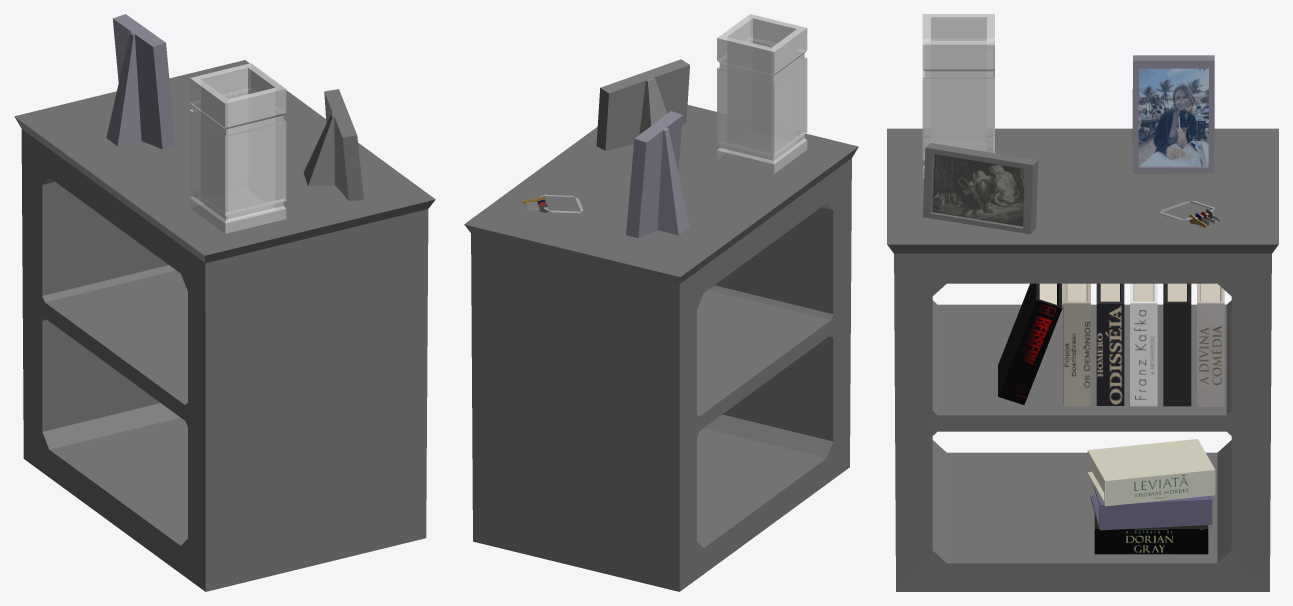
Rendered from Mesita.glb.
3 renders of one model, left to right at view 1: azimuth 30°, elevation 25°; view 2: azimuth 150°, elevation 25°; view 3: azimuth 270°, elevation 25°, orthographic. The views are drawn at different scales.
Visible parts, largest first — view 1: Shelf-convcol, Vase, Portrait-2, Portrait; view 2: Shelf-convcol, Vase, Portrait-2, Portrait, House_Keys; view 3: Shelf-convcol, Books, Book_Stack, Vase, Portrait-2, Portrait, Book, House_Keys.
Boxes of the visible parts, x1=… form: Shelf-convcol: x1=14, y1=60, x2=435, y2=591; Vase: x1=190, y1=63, x2=286, y2=233; Portrait-2: x1=106, y1=14, x2=175, y2=149; Portrait: x1=303, y1=89, x2=363, y2=200; Shelf-convcol: x1=464, y1=105, x2=858, y2=591; Vase: x1=717, y1=14, x2=807, y2=173; Portrait-2: x1=626, y1=111, x2=689, y2=237; Portrait: x1=596, y1=59, x2=689, y2=150; House_Keys: x1=522, y1=194, x2=583, y2=213; Shelf-convcol: x1=887, y1=128, x2=1278, y2=591; Books: x1=1063, y1=283, x2=1224, y2=406; Book_Stack: x1=1087, y1=439, x2=1215, y2=554; Vase: x1=922, y1=14, x2=994, y2=178; Portrait-2: x1=1132, y1=55, x2=1214, y2=173; Portrait: x1=922, y1=143, x2=1038, y2=234; Book: x1=998, y1=283, x2=1062, y2=404; House_Keys: x1=1159, y1=201, x2=1220, y2=227.
Bounding box in the file's own units: 0.7334 × 1.43 × 1.05.
25 materials, 5 textured.
